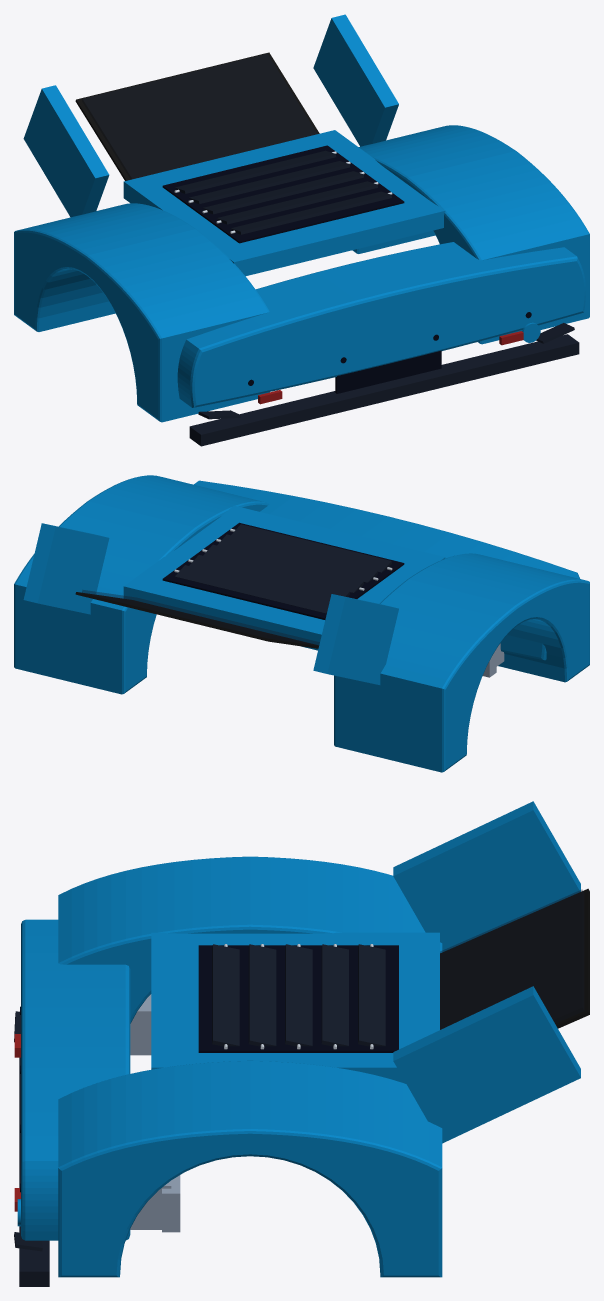
File: rear_bumper.glb
3 views of the same model, one above another, from view 1: azimuth 30°, elevation 25°; view 2: azimuth 150°, elevation 25°; view 3: azimuth 270°, elevation 25° (orthographic). The views are drawn at different scales.
Parts seen in each view (by area): view 1: Sculpted_Rear_Bumper_Fascia, Sculpted_Fender_Haunch_LH, Sculpted_Fender_Haunch_RH, Backlite_EPDM_Encapsulation_Seal, Tinted_Rear_Backlite_Glass, Rear_Trunk_Decklid, Bumper_Integrated_Lower_Lip_Splitter, Engine_Deck_Louver_Recess_Frame, Fastback_C_Pillar_Buttress_LH, Fastback_C_Pillar_Buttress_RH, License_Plate_Recess_Pocket, Engine_Deck_Cooling_Louver_4 (+4 smaller); view 2: Sculpted_Fender_Haunch_LH, Sculpted_Fender_Haunch_RH, Rear_Trunk_Decklid, Sculpted_Rear_Bumper_Fascia, Fastback_C_Pillar_Buttress_LH, Fastback_C_Pillar_Buttress_RH, Engine_Deck_Louver_Recess_Frame, Engine_Deck_Cooling_Louver_1, Engine_Deck_Cooling_Louver_5, Engine_Deck_Cooling_Louver_4, Engine_Deck_Cooling_Louver_3, Engine_Deck_Cooling_Louver_2 (+2 smaller); view 3: Sculpted_Fender_Haunch_RH, Sculpted_Fender_Haunch_LH, Sculpted_Rear_Bumper_Fascia, Fastback_C_Pillar_Buttress_RH, Rear_Trunk_Decklid, Fastback_C_Pillar_Buttress_LH, Backlite_EPDM_Encapsulation_Seal, Tinted_Rear_Backlite_Glass, Engine_Deck_Louver_Recess_Frame, Engine_Deck_Cooling_Louver_4, Engine_Deck_Cooling_Louver_1, Engine_Deck_Cooling_Louver_3 (+6 smaller).
Boxes of the visible parts, left/top/right/bottom form: Sculpted_Rear_Bumper_Fascia: left=177, top=242, right=585, bottom=407; Sculpted_Fender_Haunch_LH: left=14, top=203, right=269, bottom=422; Sculpted_Fender_Haunch_RH: left=352, top=125, right=589, bottom=344; Backlite_EPDM_Encapsulation_Seal: left=75, top=52, right=319, bottom=180; Tinted_Rear_Backlite_Glass: left=82, top=54, right=316, bottom=179; Rear_Trunk_Decklid: left=123, top=130, right=445, bottom=276; Bumper_Integrated_Lower_Lip_Splitter: left=189, top=334, right=579, bottom=446; Engine_Deck_Louver_Recess_Frame: left=162, top=145, right=404, bottom=243; Fastback_C_Pillar_Buttress_LH: left=23, top=85, right=109, bottom=217; Fastback_C_Pillar_Buttress_RH: left=313, top=14, right=398, bottom=146; License_Plate_Recess_Pocket: left=335, top=350, right=441, bottom=393; Engine_Deck_Cooling_Louver_4: left=216, top=181, right=377, bottom=224; Sculpted_Fender_Haunch_LH: left=334, top=553, right=589, bottom=772; Sculpted_Fender_Haunch_RH: left=14, top=475, right=269, bottom=694; Rear_Trunk_Decklid: left=123, top=505, right=445, bottom=650; Sculpted_Rear_Bumper_Fascia: left=194, top=480, right=579, bottom=660; Fastback_C_Pillar_Buttress_LH: left=313, top=594, right=398, bottom=684; Fastback_C_Pillar_Buttress_RH: left=23, top=523, right=109, bottom=614; Engine_Deck_Louver_Recess_Frame: left=162, top=522, right=404, bottom=619; Engine_Deck_Cooling_Louver_1: left=175, top=565, right=329, bottom=613; Engine_Deck_Cooling_Louver_5: left=231, top=524, right=391, bottom=572; Engine_Deck_Cooling_Louver_4: left=217, top=534, right=377, bottom=582; Engine_Deck_Cooling_Louver_3: left=203, top=544, right=363, bottom=592; Engine_Deck_Cooling_Louver_2: left=189, top=555, right=349, bottom=600; Sculpted_Fender_Haunch_RH: left=58, top=1060, right=442, bottom=1277; Sculpted_Fender_Haunch_LH: left=58, top=856, right=442, bottom=1023; Sculpted_Rear_Bumper_Fascia: left=21, top=919, right=130, bottom=1240; Fastback_C_Pillar_Buttress_RH: left=393, top=986, right=580, bottom=1143; Rear_Trunk_Decklid: left=151, top=932, right=439, bottom=1083; Fastback_C_Pillar_Buttress_LH: left=393, top=801, right=580, bottom=951; Backlite_EPDM_Encapsulation_Seal: left=440, top=888, right=589, bottom=1029; Tinted_Rear_Backlite_Glass: left=440, top=889, right=583, bottom=1029; Engine_Deck_Louver_Recess_Frame: left=198, top=945, right=398, bottom=1052; Engine_Deck_Cooling_Louver_4: left=248, top=944, right=276, bottom=1046; Engine_Deck_Cooling_Louver_1: left=358, top=944, right=385, bottom=1046; Engine_Deck_Cooling_Louver_3: left=285, top=944, right=312, bottom=1046.
Size of the model in its own units: 2.14 by 0.9734 by 1.9.
